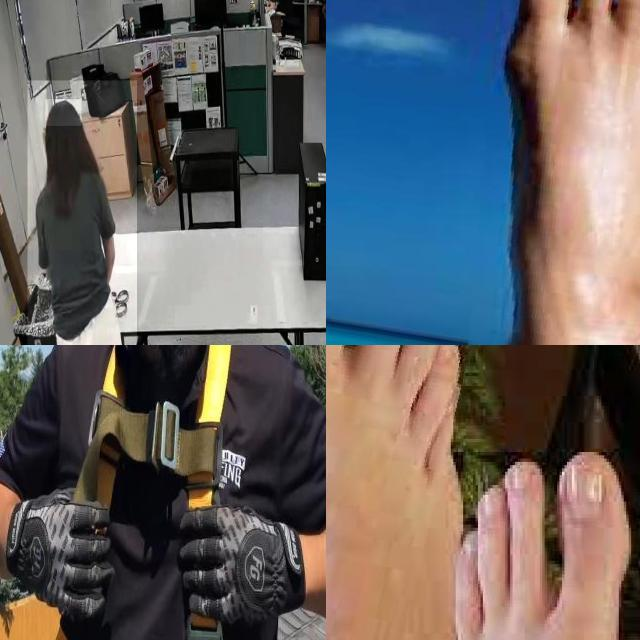Barefoots: (439, 0, 640, 345), (326, 345, 469, 640)
Harness: (74, 345, 232, 510)
head_nohelmet: (46, 99, 82, 127)
person: (27, 80, 137, 345)
